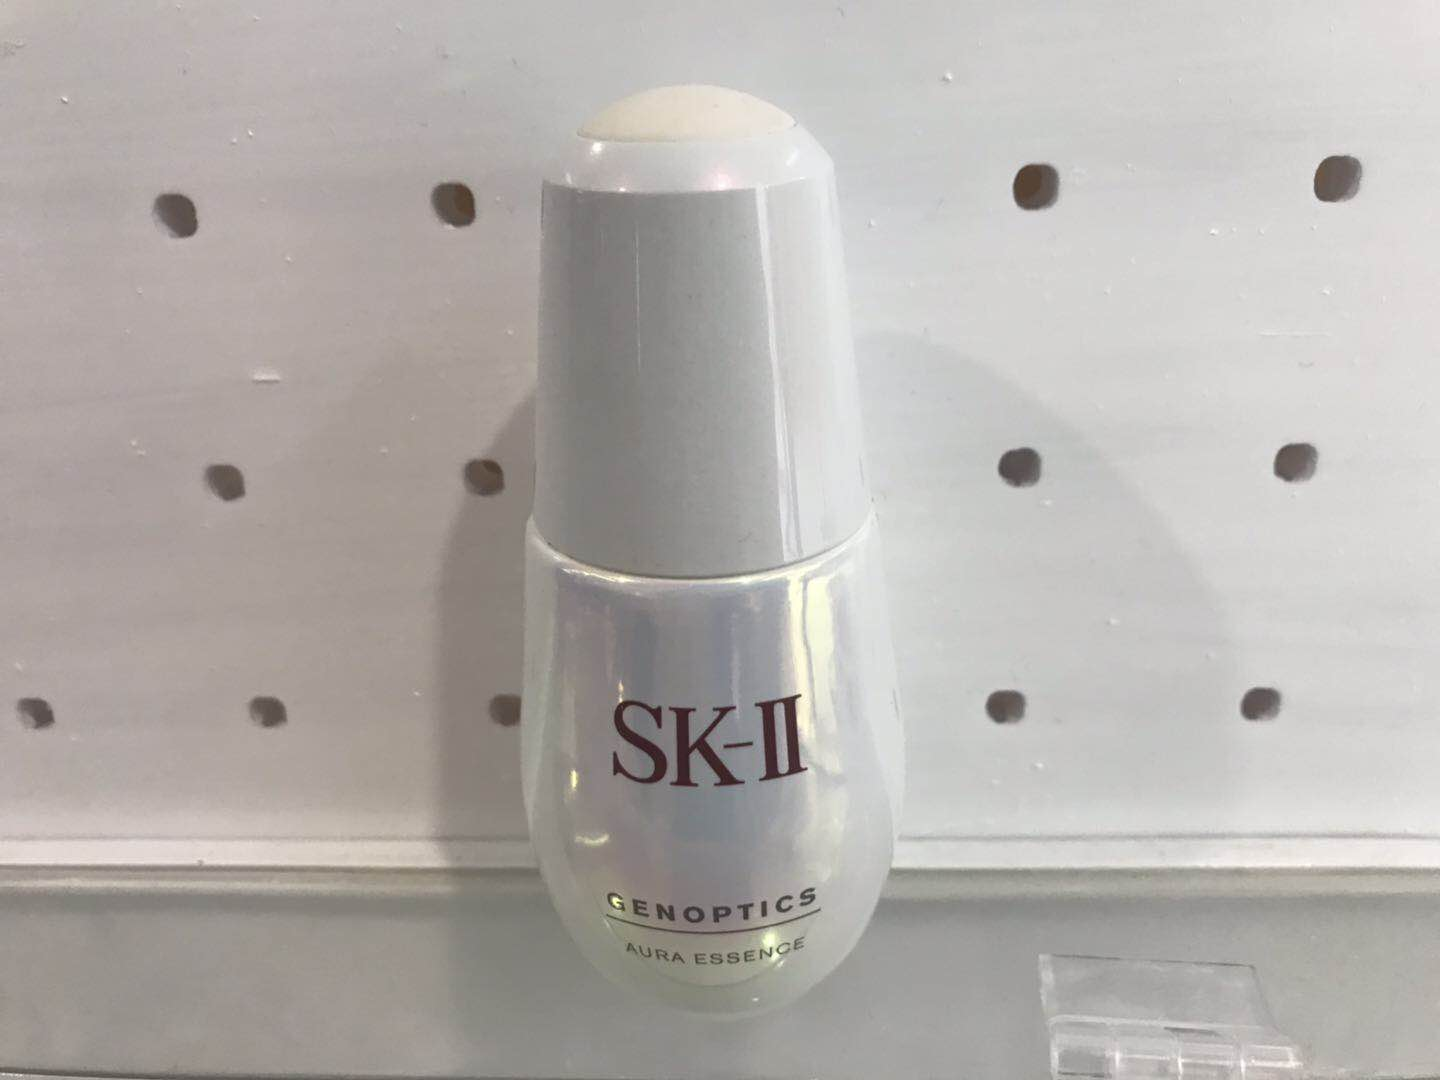sk2: (489, 64, 922, 1062)
